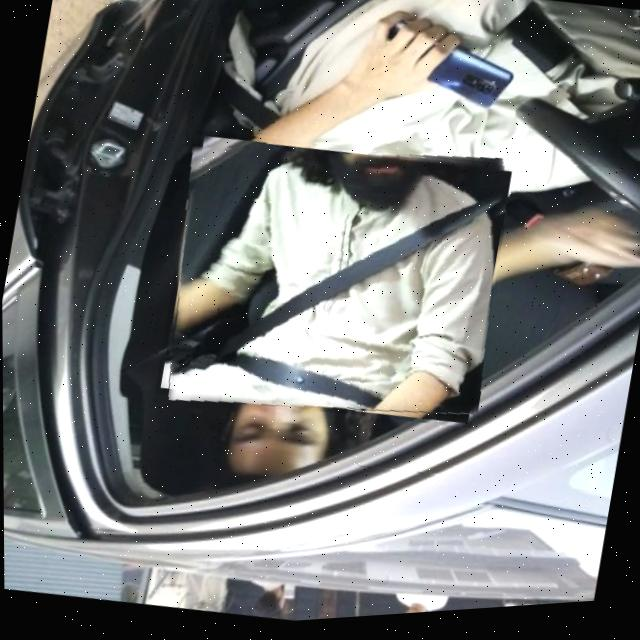seatbelt: (151, 115, 515, 450)
